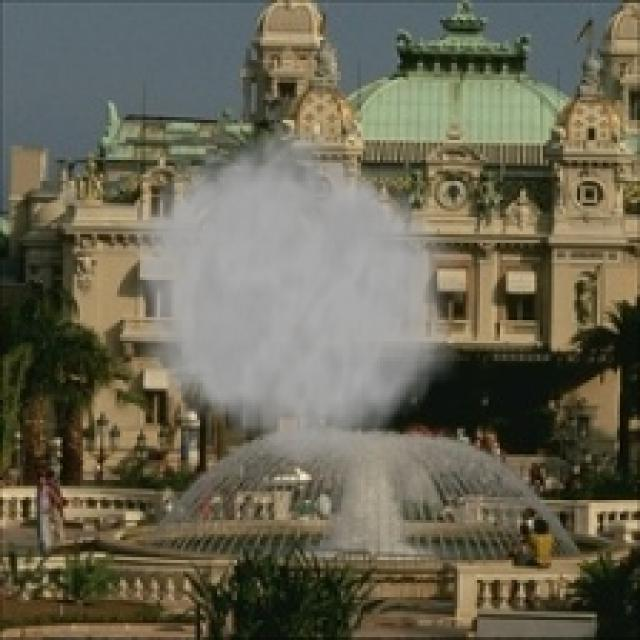Smoke: (114, 114, 460, 480)
